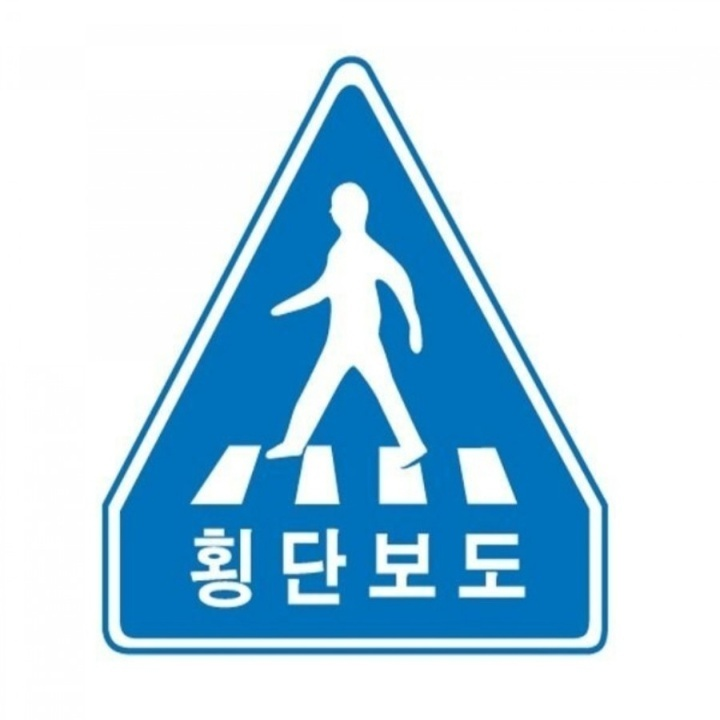cross: (253, 176, 437, 481)
